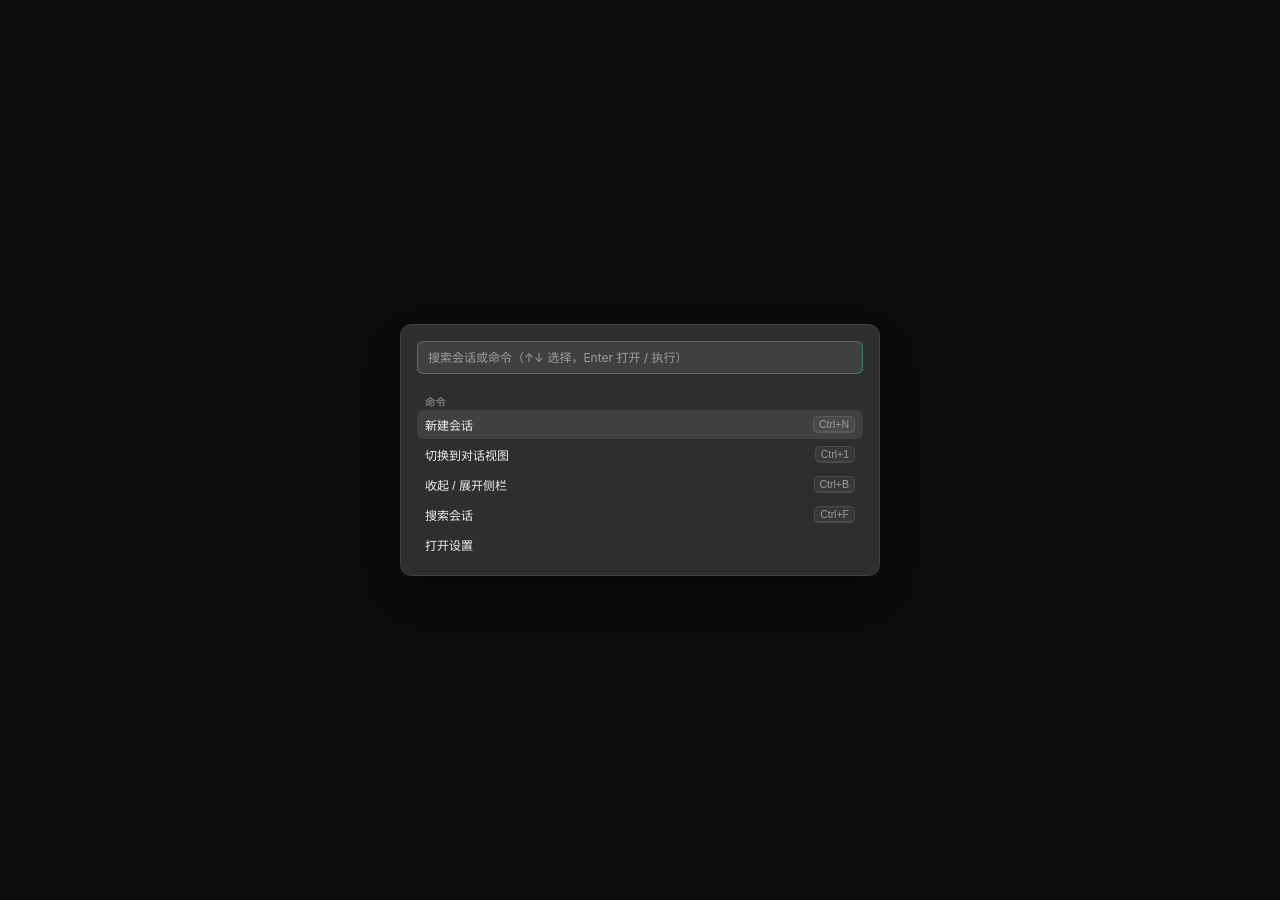
Test case: QuickSwitcher 命令面板（U1-14） › 两组都落空时显示统一空态
The image size is (1280, 900).
Type "不存在的东西" into the field.
click(640, 358); type("不存在的东西")  # box [417,341,863,374]
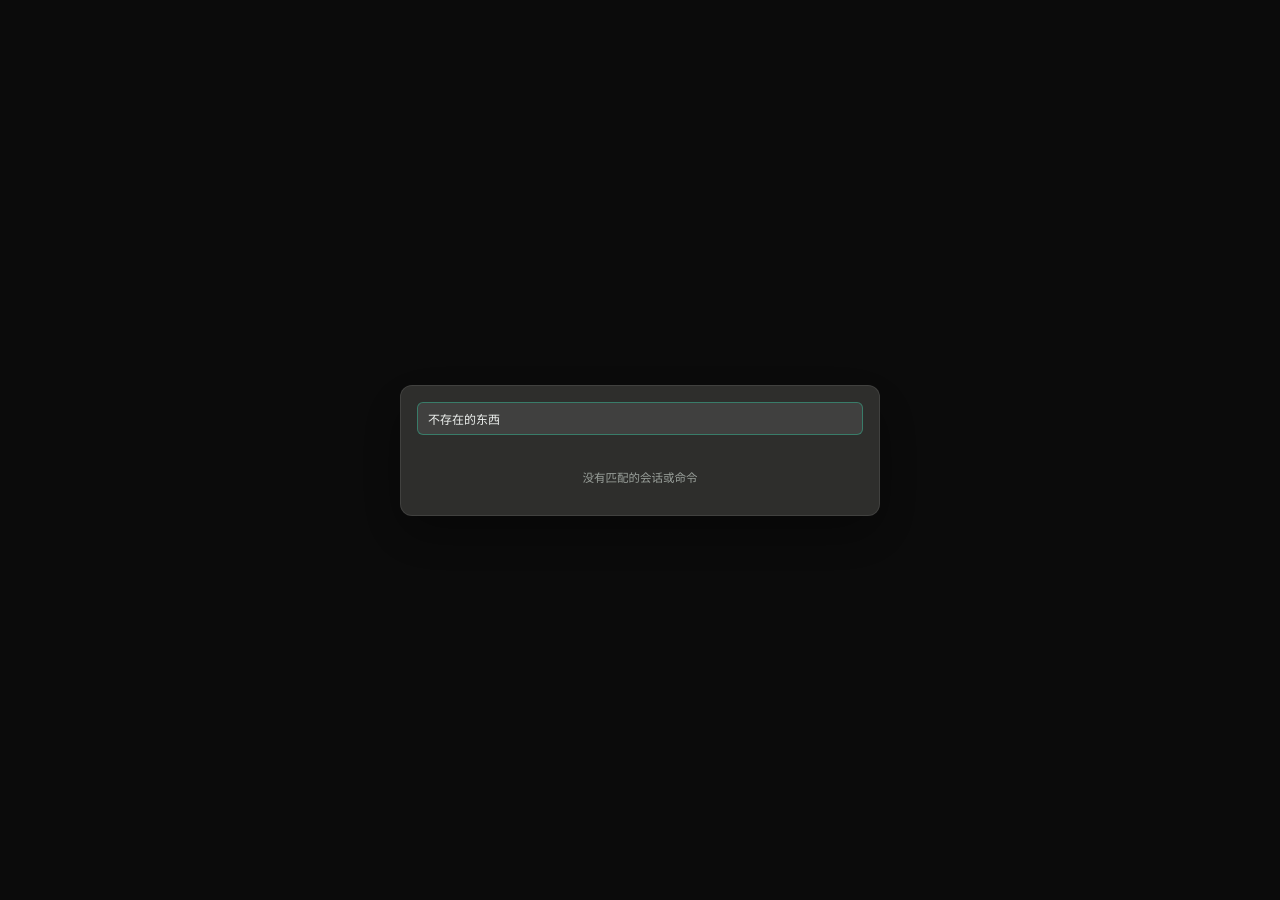
Now the text "没有匹配的会话或命令" is shown, box [582,470,698,484]
Now the option is gone
